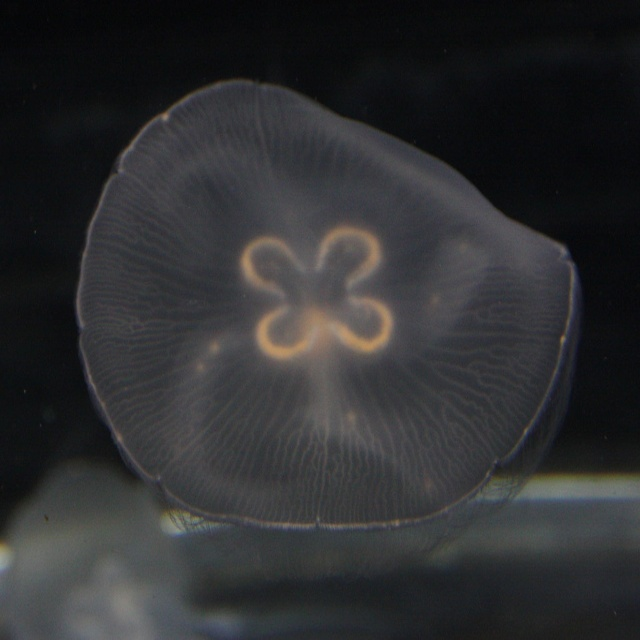Jellyfish: (72, 74, 585, 596)
